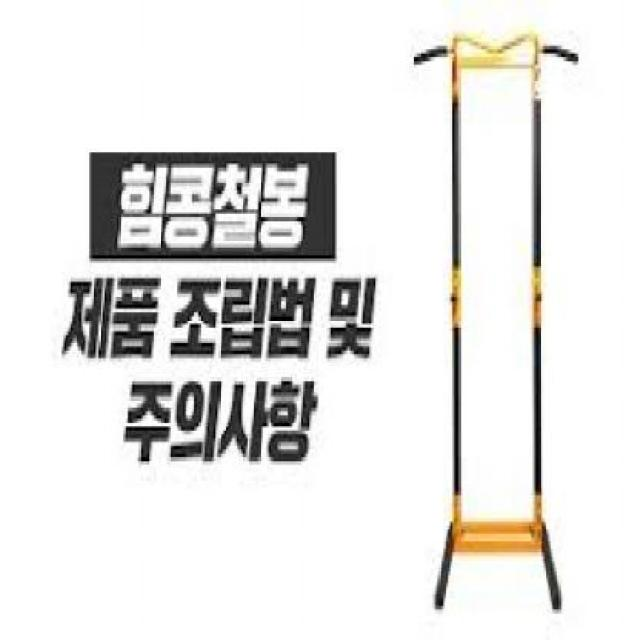chinning dipping: (414, 34, 578, 612)
